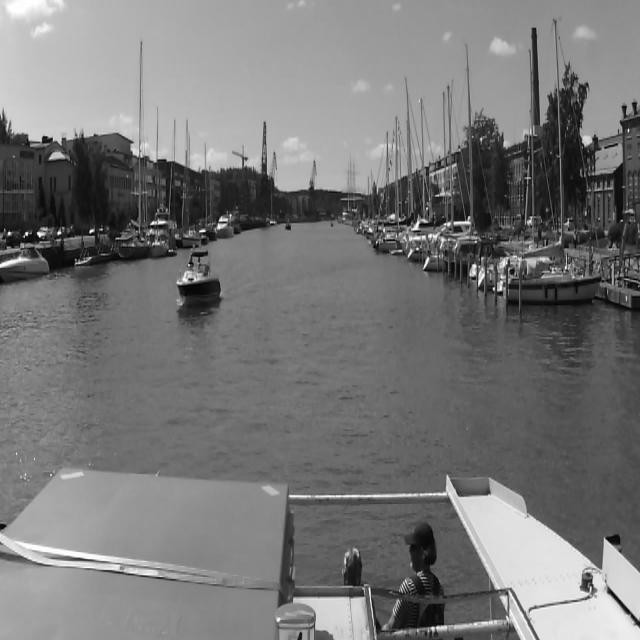ship: (502, 13, 602, 300), (423, 38, 501, 272), (118, 38, 150, 259), (147, 106, 171, 258), (176, 248, 220, 305), (0, 237, 54, 282), (146, 205, 180, 243), (150, 235, 170, 255), (216, 216, 232, 236), (270, 176, 276, 227), (229, 210, 241, 233), (284, 218, 292, 232)
